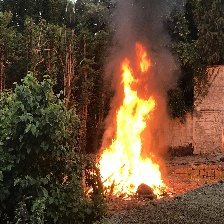fire: (90, 41, 177, 201)
smoke: (103, 1, 203, 86)
